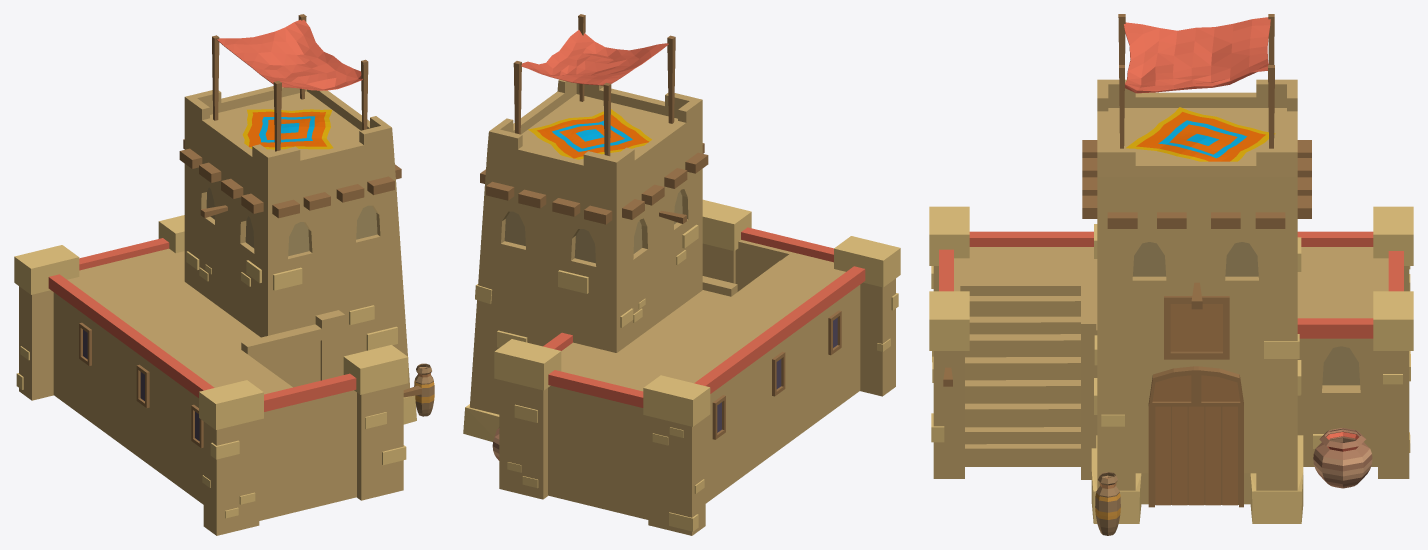
File: SL_House1.fbx
3 views of the same model, side by side, from view 1: azimuth 30°, elevation 25°; view 2: azimuth 150°, elevation 25°; view 3: azimuth 270°, elevation 25° (orthographic). The views are drawn at different scales.
Parts seen in each view (by area): view 1: SL_House1; view 2: SL_House1; view 3: SL_House1.
Part boxes in pixels (bbox=[...]): SL_House1: bbox=[14, 14, 434, 535]; SL_House1: bbox=[463, 14, 900, 535]; SL_House1: bbox=[929, 14, 1413, 535].
Size of the model in its own units: 994 by 1178 by 1188.
